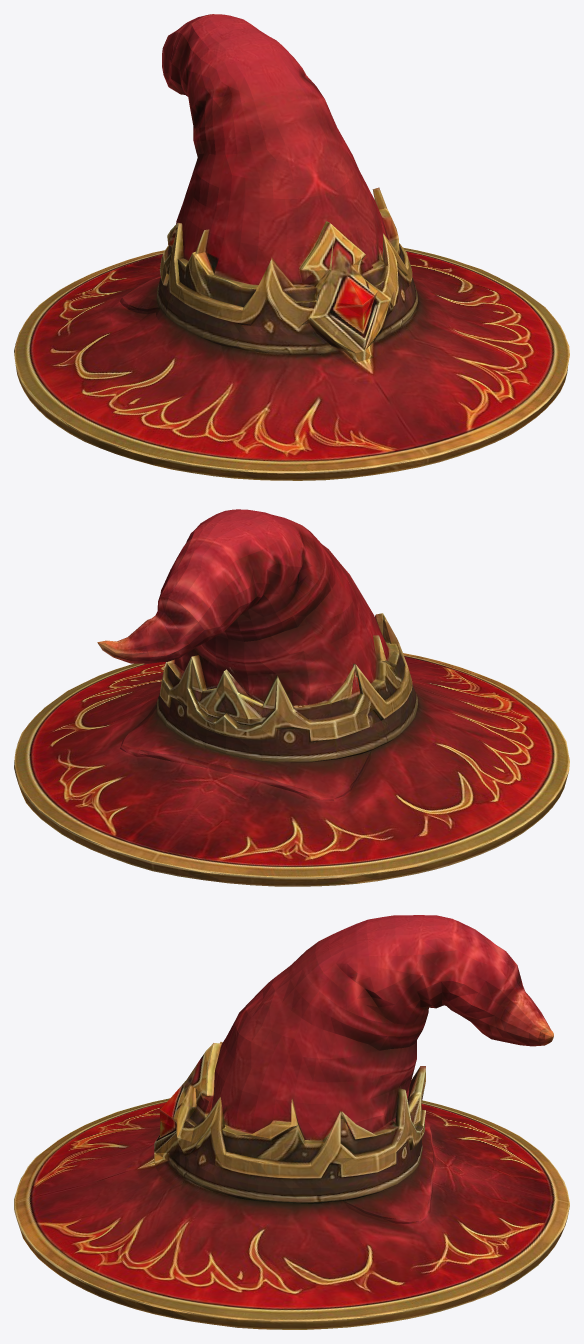
File: RedMageHat.glb
3 views of the same model, one above another, from view 1: azimuth 30°, elevation 25°; view 2: azimuth 150°, elevation 25°; view 3: azimuth 270°, elevation 25° (orthographic).
Bounding box in the file's own units: 1.9 × 1.11 × 1.91.
Materials: 1 (1 with a texture image).
